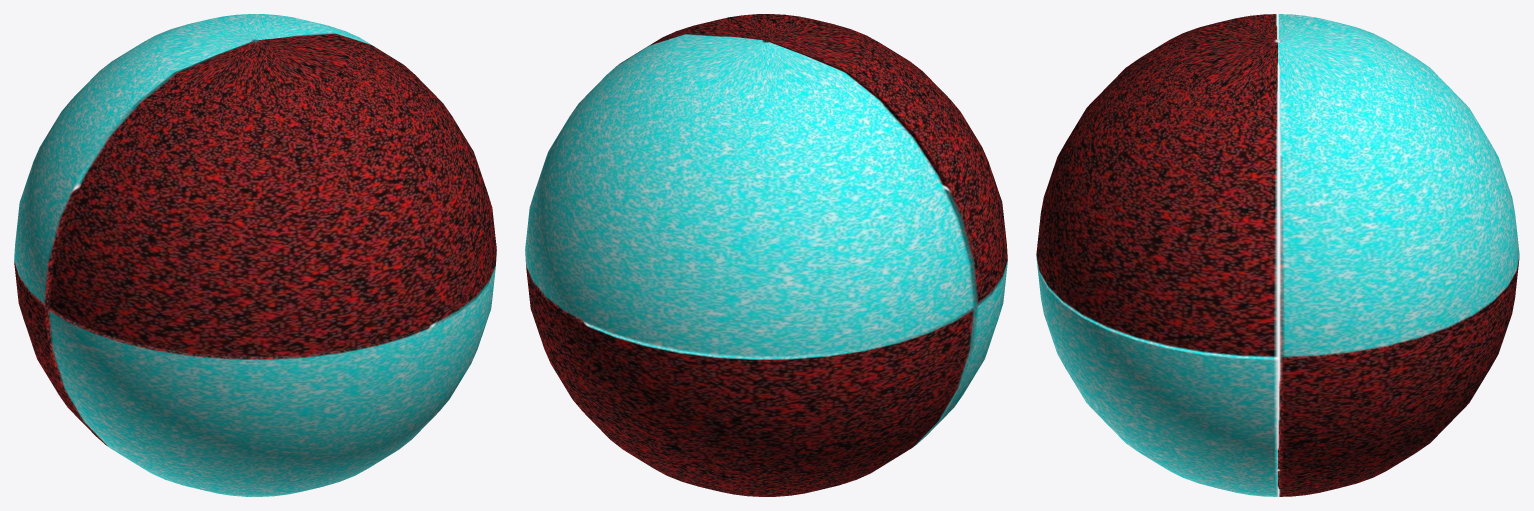
3 views of the same model, side by side, from view 1: azimuth 30°, elevation 25°; view 2: azimuth 150°, elevation 25°; view 3: azimuth 270°, elevation 25° (orthographic).
Parts seen in each view (by area): view 1: SM_VFX_WaterSphere_LOD0; view 2: SM_VFX_WaterSphere_LOD0; view 3: SM_VFX_WaterSphere_LOD0.
Boxes of the visible parts, box(x1,y1,x2,y2) form: SM_VFX_WaterSphere_LOD0: box(14, 14, 496, 496); SM_VFX_WaterSphere_LOD0: box(525, 14, 1007, 496); SM_VFX_WaterSphere_LOD0: box(1036, 14, 1519, 496).
Size of the model in its own units: 2 by 1.96 by 2.
Materials: 1 (1 with a texture image).
